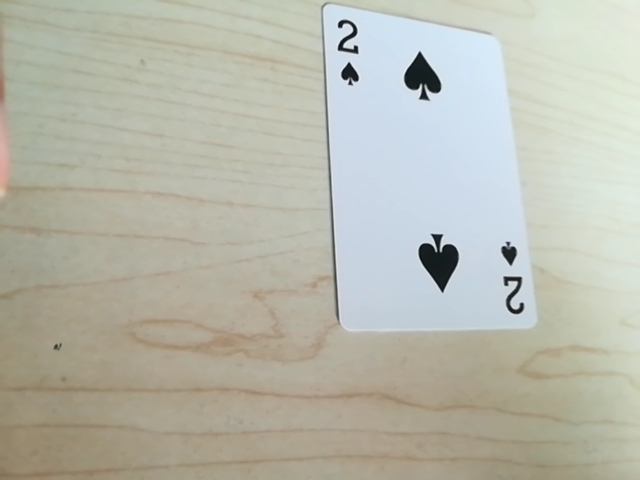ht 2: (323, 5, 373, 96), (493, 232, 528, 327)
